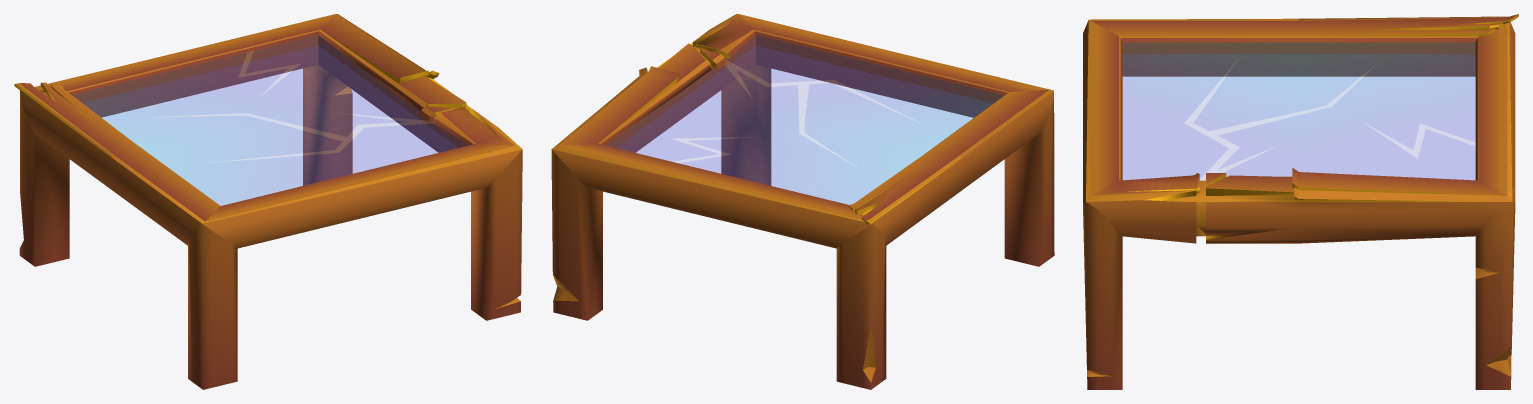
Rendered from CoffeeTableLarge_Damaged.fbx.
3 views of the same model, side by side, from view 1: azimuth 30°, elevation 25°; view 2: azimuth 150°, elevation 25°; view 3: azimuth 270°, elevation 25° (orthographic). The views are drawn at different scales.
Visible parts, largest first — view 1: Tablev3_Damage; view 2: Tablev3_Damage; view 3: Tablev3_Damage.
Boxes of the visible parts, bbox=[...] form: Tablev3_Damage: bbox=[14, 14, 522, 389]; Tablev3_Damage: bbox=[551, 14, 1054, 389]; Tablev3_Damage: bbox=[1083, 14, 1518, 389].
Size of the model in its own units: 4.14 by 2.14 by 4.12.
